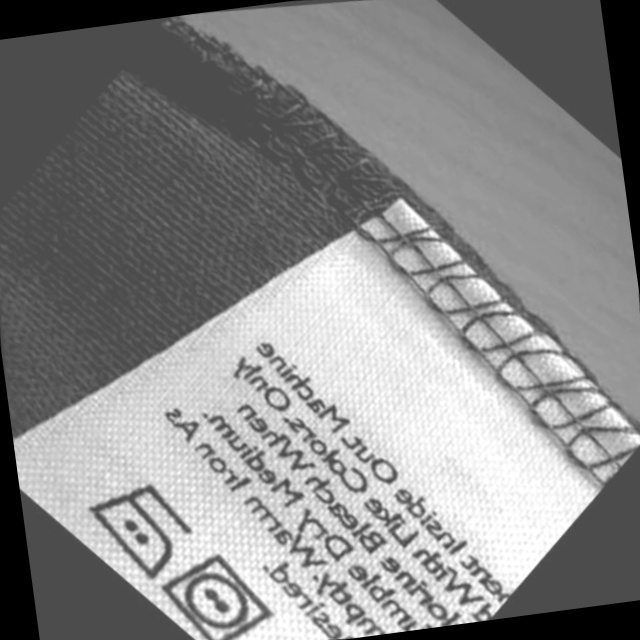iron_medium: (75, 474, 199, 588)
tumble_dry_medium: (151, 545, 278, 640)
